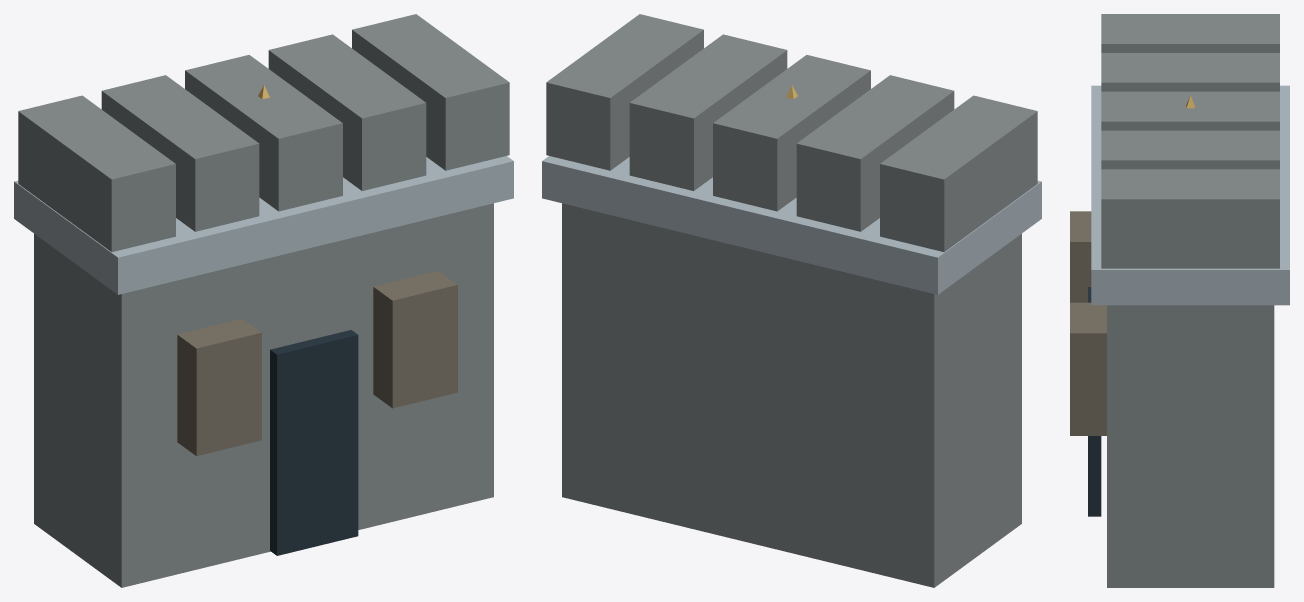
The model's file is defense.obj.
The picture shows the model from 3 angles, left to right: view 1: azimuth 30°, elevation 25°; view 2: azimuth 150°, elevation 25°; view 3: azimuth 270°, elevation 25°; orthographic projection. The views are drawn at different scales.
Parts seen in each view (by area): view 1: defense; view 2: defense; view 3: defense.
Boxes of the visible parts, x1=… form: defense: x1=14, y1=14, x2=513, y2=587; defense: x1=542, y1=14, x2=1041, y2=587; defense: x1=1070, y1=14, x2=1289, y2=587.
Size of the model in its own units: 2.44 by 2.49 by 1.22.
